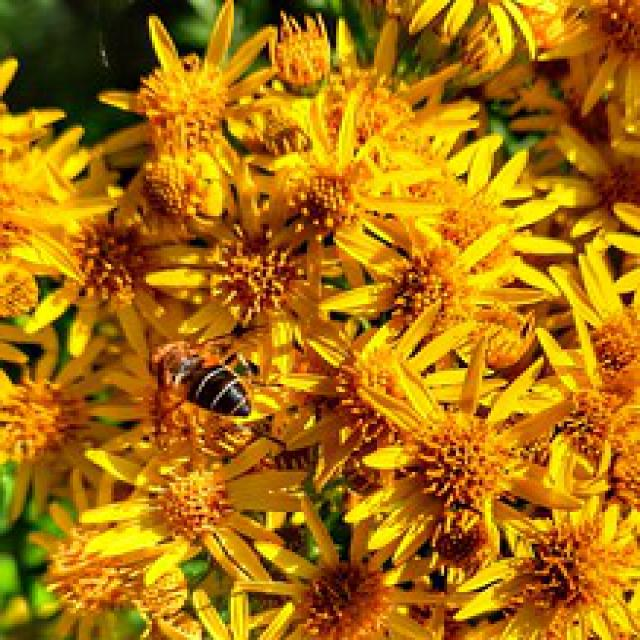Guepe: (149, 331, 269, 437)
